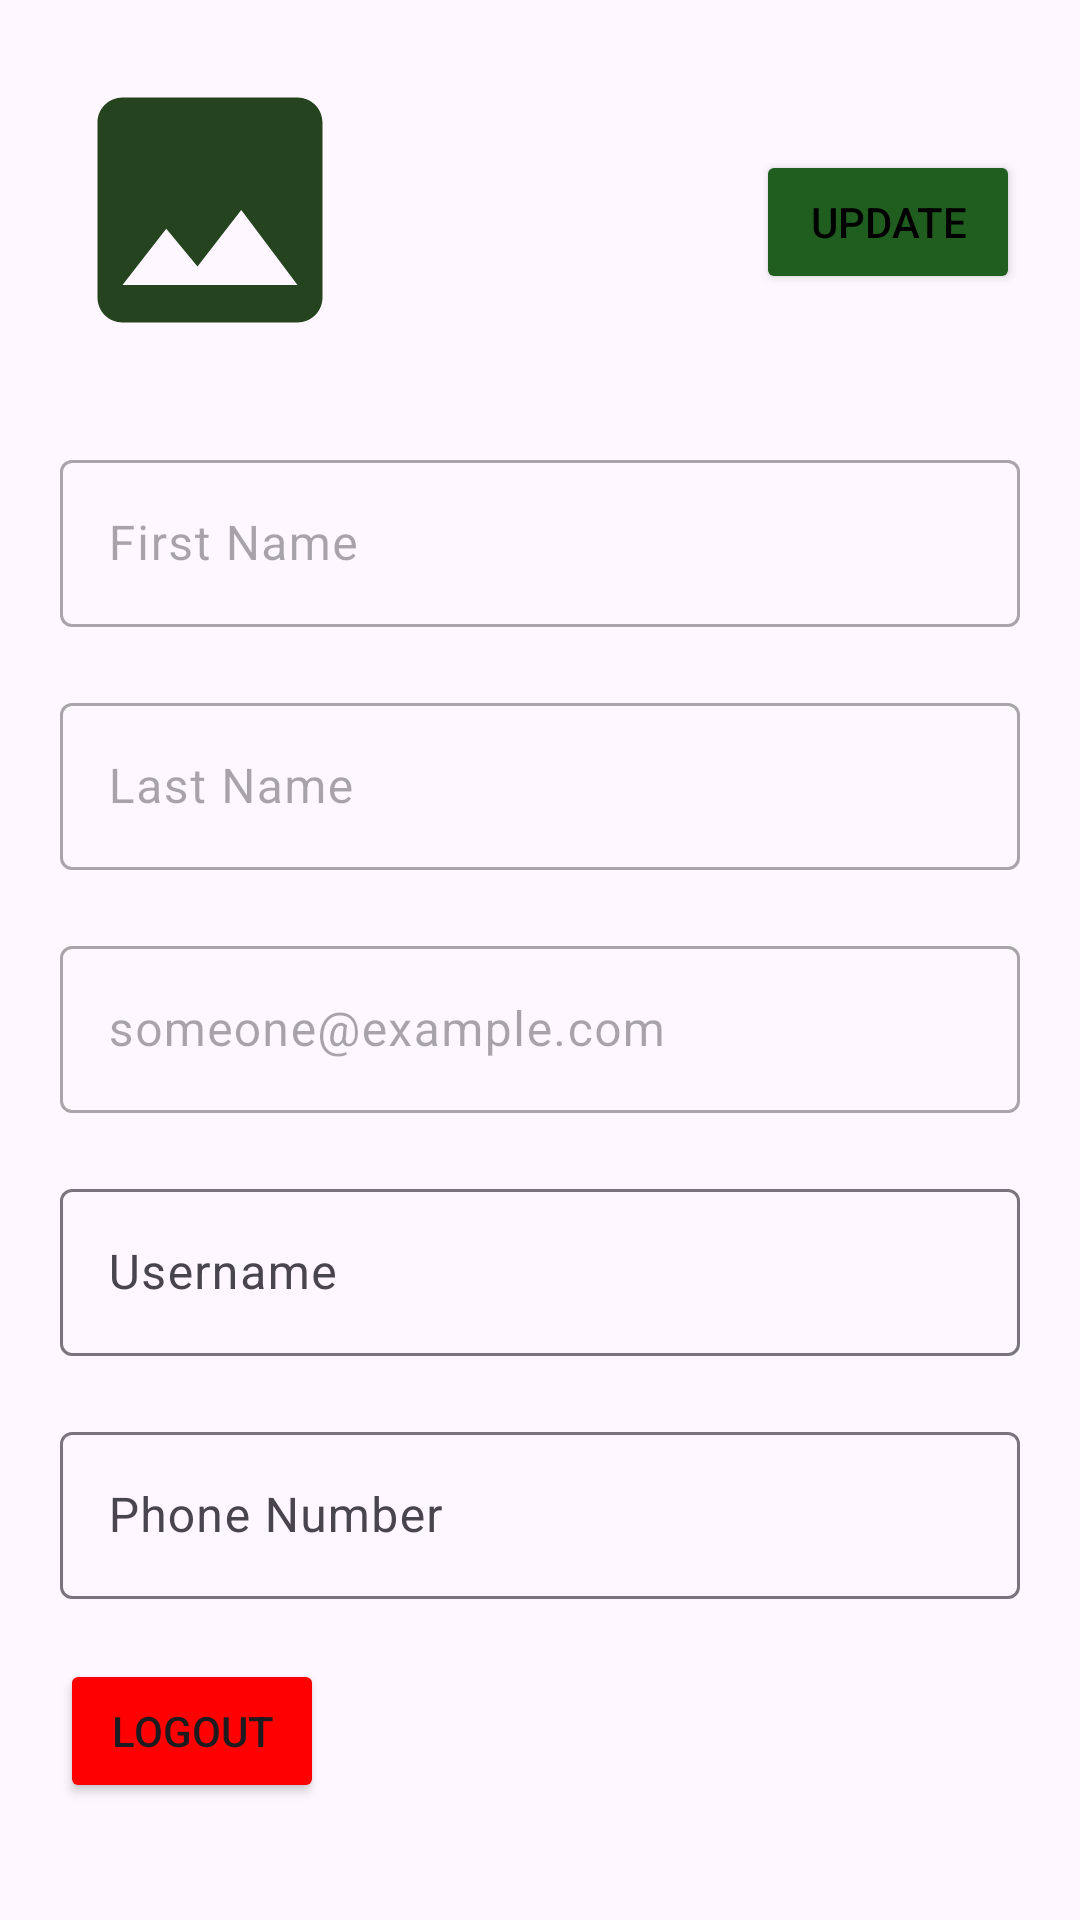

Screen size 1080w x 1920h. Icon name, then its box in pixels as [x1, y1, x2, y2]:
insert photo: [97, 97, 323, 323]
